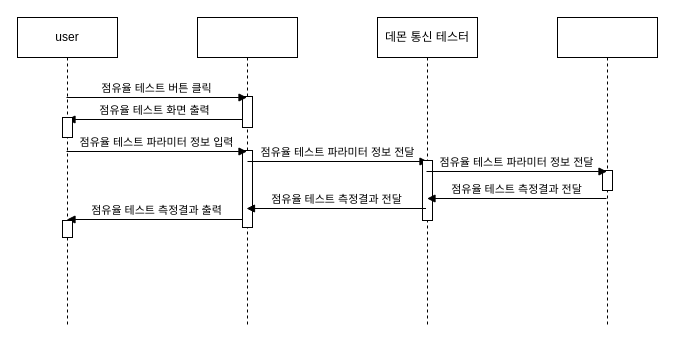
Image size: 675x345. Some labels were removed from this diagram. Each missing label, with the box of its shape:
ui: (196, 16, 298, 328)
데몬 sw: (556, 16, 658, 328)
